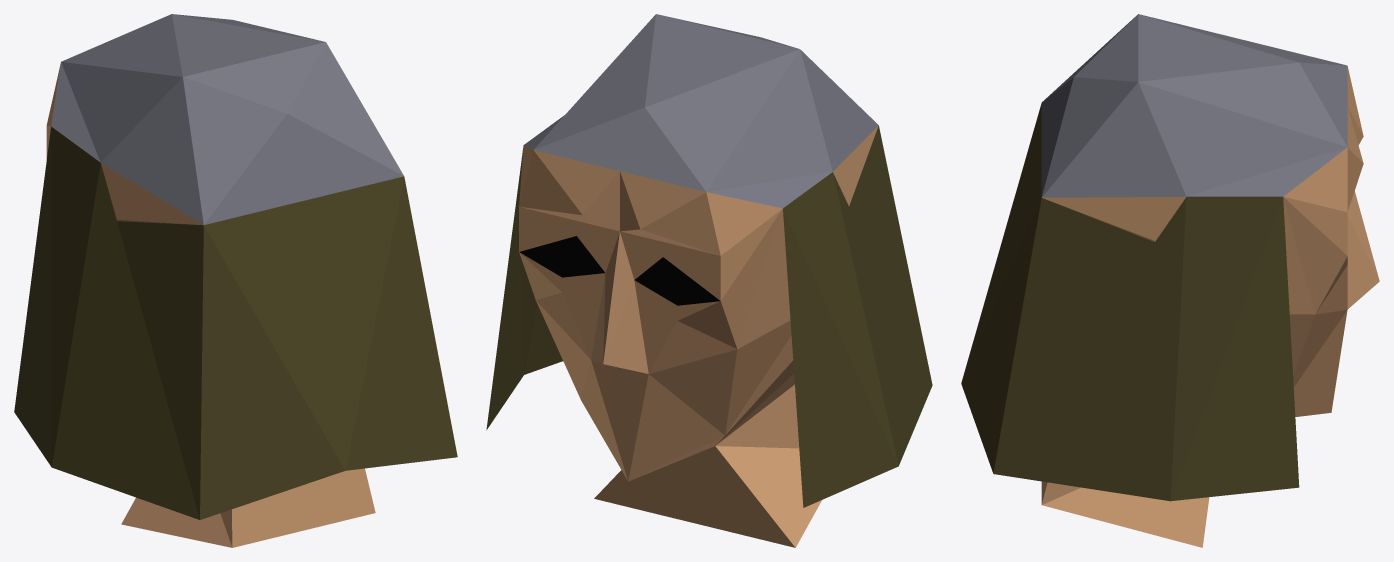
The model's file is npc_world_leatherworker_0.obj.
3 views of the same model, side by side, from view 1: azimuth 30°, elevation 25°; view 2: azimuth 150°, elevation 25°; view 3: azimuth 270°, elevation 25° (orthographic). The views are drawn at different scales.
Size of the model in its own units: 0.2031 by 0.2422 by 0.2031.
